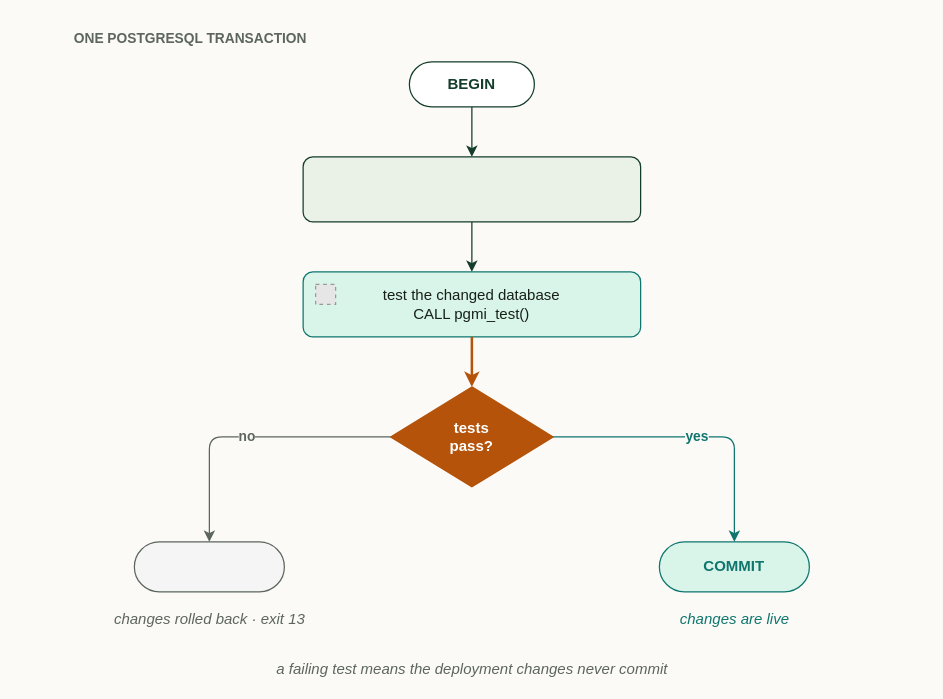
The diagram is 943 pixels wide and 699 high, and some of its shapes have lost their labels. Grey dashed boxes stand in for pictures. Each missing label, with the centre of its shape:
"apply selected migrations and reference data" goes at (471,189).
"ROLLBACK" goes at (208,566).
